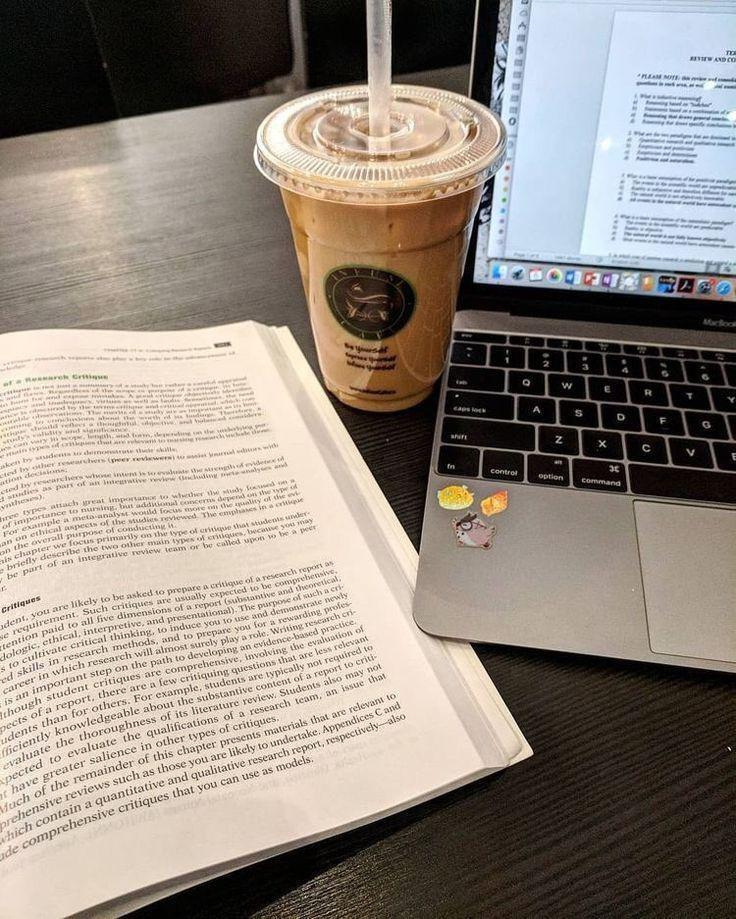cup-disposable: (251, 80, 507, 413)
